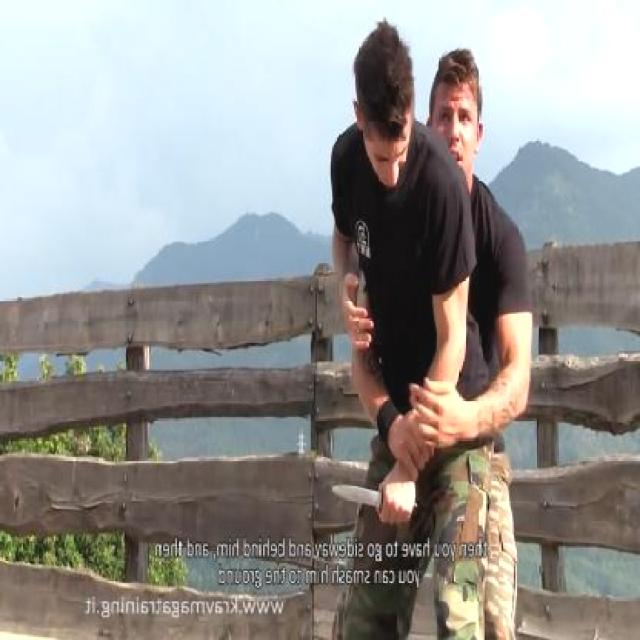knife: (328, 465, 420, 532)
